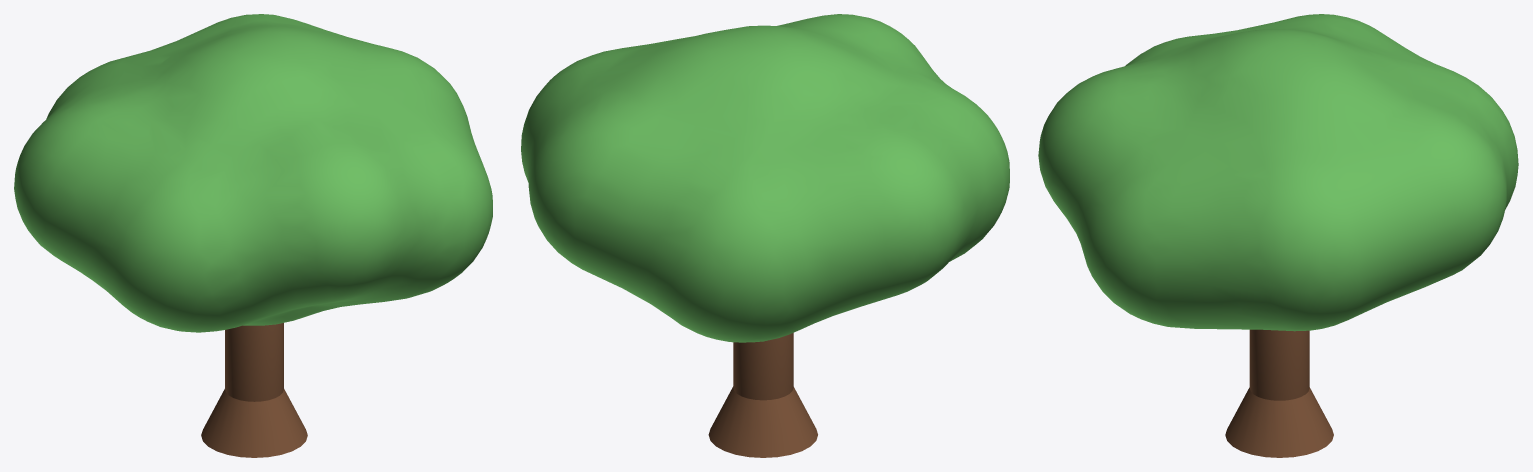
Rendered from tree_round_big.glb.
3 renders of one model, left to right at view 1: azimuth 30°, elevation 25°; view 2: azimuth 150°, elevation 25°; view 3: azimuth 270°, elevation 25°, orthographic. The views are drawn at different scales.
Visible parts, largest first — view 1: tree_round_big; view 2: tree_round_big; view 3: tree_round_big.
Boxes of the visible parts, left/top/right/bottom form: tree_round_big: left=14, top=14, right=492, bottom=457; tree_round_big: left=521, top=14, right=1009, bottom=457; tree_round_big: left=1038, top=14, right=1518, bottom=457.
Bounding box in the file's own units: 3.63 × 3.18 × 3.53.
